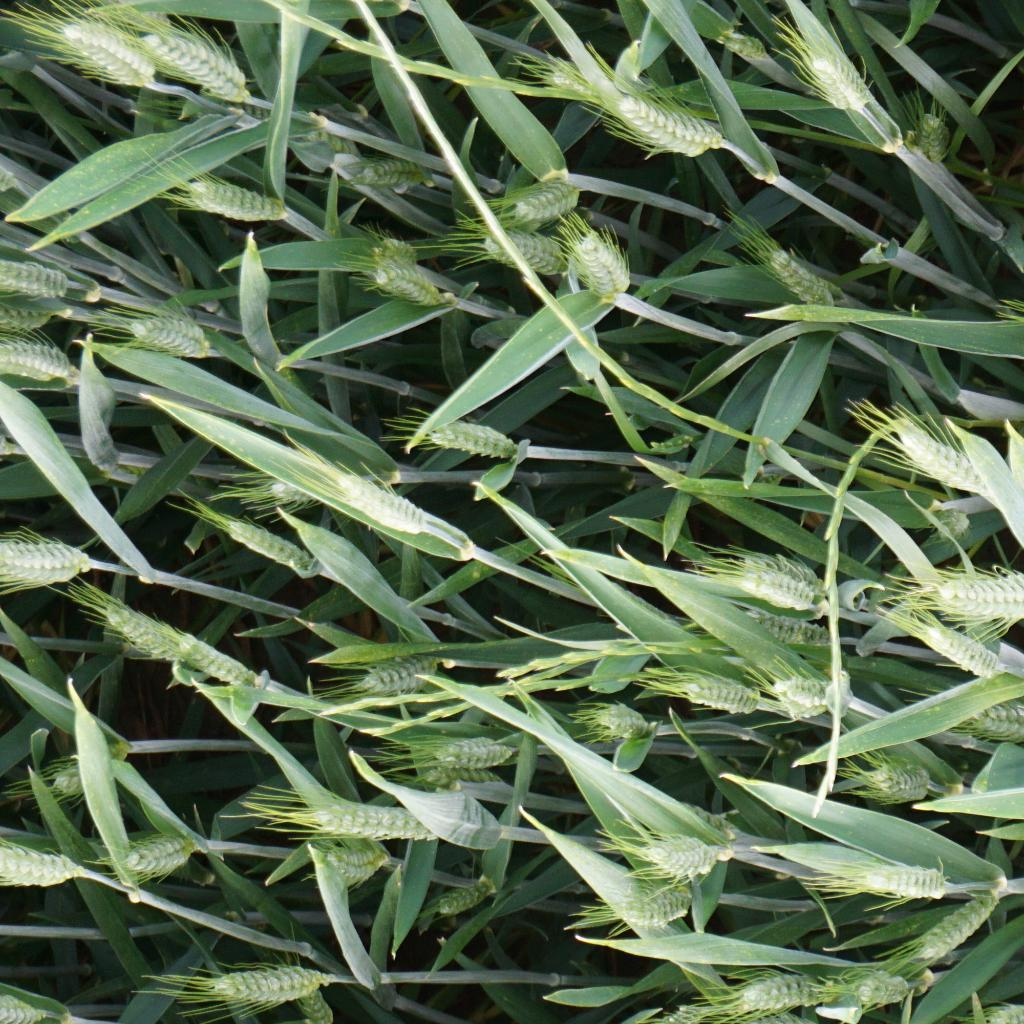0-0: (298, 463, 431, 542), (591, 86, 727, 162), (876, 412, 995, 498), (39, 11, 161, 94), (307, 783, 461, 847), (132, 28, 252, 108), (900, 887, 1010, 970), (154, 164, 291, 227), (86, 583, 192, 664), (784, 35, 878, 120), (902, 610, 1007, 685), (157, 626, 262, 697), (194, 963, 336, 1015), (468, 215, 569, 288), (706, 966, 853, 1016), (204, 507, 311, 572), (113, 304, 219, 369), (48, 727, 135, 802), (841, 853, 961, 907), (627, 825, 733, 886), (0, 527, 94, 594), (105, 822, 211, 881), (760, 241, 842, 317), (561, 220, 635, 303), (905, 573, 1024, 624), (722, 561, 828, 617), (267, 956, 348, 1024), (0, 832, 83, 896), (677, 665, 764, 726), (415, 413, 520, 463), (304, 833, 400, 886), (361, 260, 449, 315), (613, 879, 699, 934), (740, 606, 840, 653), (0, 331, 75, 392), (250, 469, 367, 508), (366, 642, 447, 698), (863, 750, 934, 807), (949, 691, 1024, 744), (508, 177, 587, 226), (666, 788, 738, 841), (527, 57, 607, 104), (431, 731, 521, 772), (434, 868, 503, 920), (587, 696, 660, 745), (735, 544, 818, 587), (404, 758, 512, 791), (849, 963, 922, 1011), (0, 258, 78, 302), (334, 163, 437, 195), (768, 675, 844, 715), (906, 110, 952, 166), (0, 296, 68, 333), (365, 230, 422, 274), (288, 124, 358, 158), (714, 22, 769, 64), (0, 989, 62, 1024), (927, 502, 971, 546)
